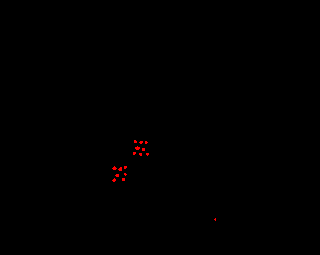Target: (135, 146, 140, 150), (112, 166, 117, 170), (118, 167, 122, 171), (112, 178, 116, 182), (139, 141, 143, 144), (115, 174, 119, 177), (134, 140, 137, 143), (145, 141, 148, 144), (142, 148, 145, 151), (133, 152, 136, 155), (139, 153, 142, 156), (146, 153, 149, 156), (124, 166, 127, 169), (124, 173, 127, 176), (122, 178, 125, 181), (214, 218, 216, 221)
